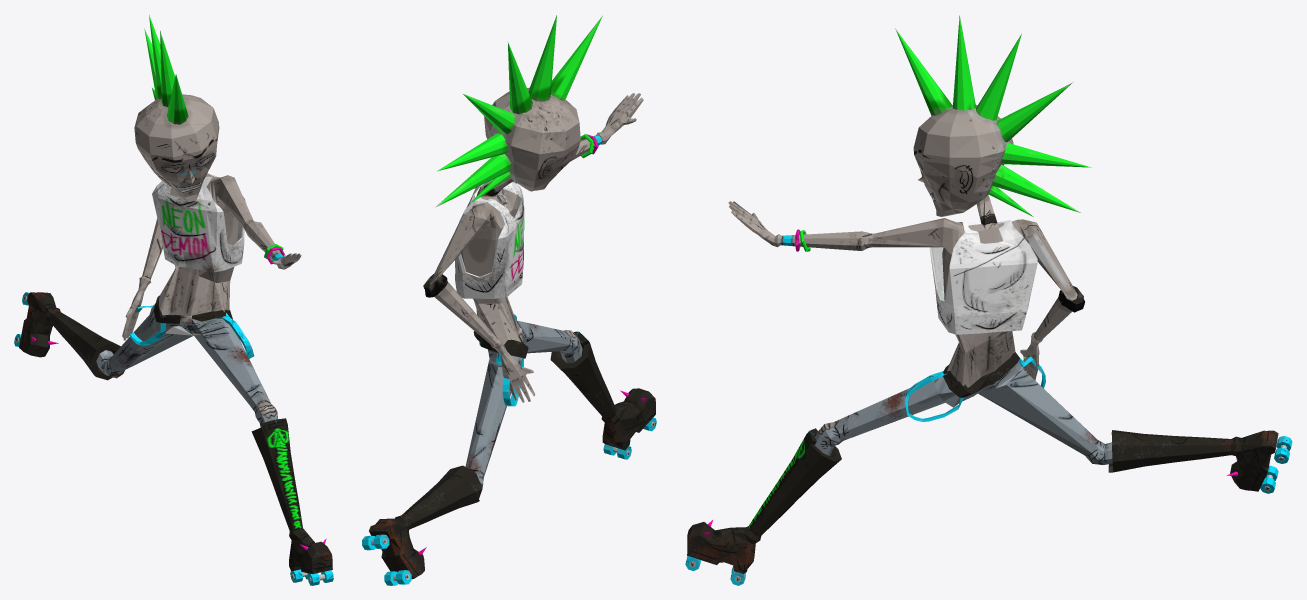
The model's file is punkAnimation_000030.obj.
3 views of the same model, side by side, from view 1: azimuth 30°, elevation 25°; view 2: azimuth 150°, elevation 25°; view 3: azimuth 270°, elevation 25° (orthographic). The views are drawn at different scales.
Parts seen in each view (by area): view 1: Cube.004_Cube.003; view 2: Cube.004_Cube.003; view 3: Cube.004_Cube.003.
Part boxes in pixels (bbox=[...]): Cube.004_Cube.003: bbox=[14, 15, 333, 585]; Cube.004_Cube.003: bbox=[362, 15, 656, 585]; Cube.004_Cube.003: bbox=[685, 15, 1292, 585].
Bounding box in the file's own units: 1.34 × 6.37 × 6.45.
